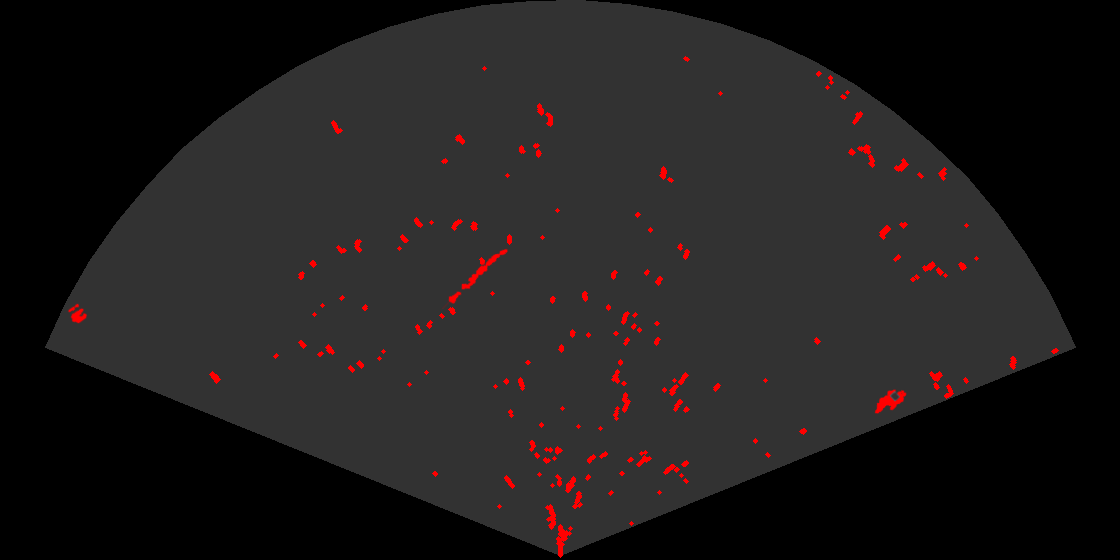AUV: (873, 388, 908, 415)
ball: (66, 302, 89, 325)
chain: (440, 247, 509, 309)
